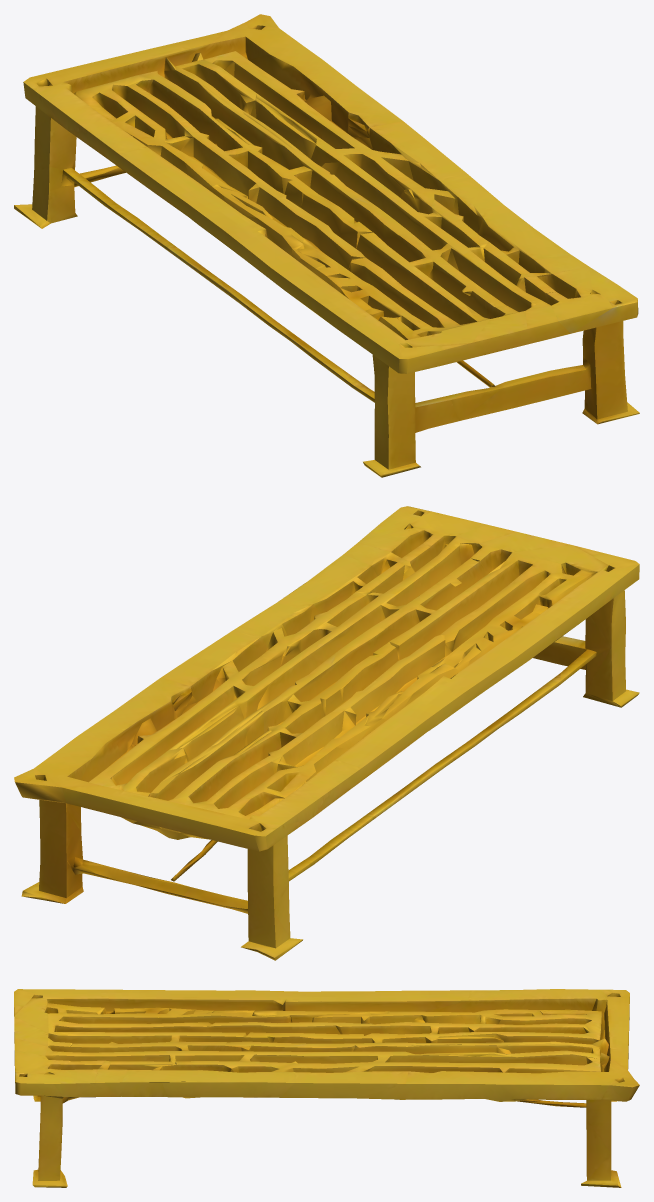
The model's file is m2SteelCatwalk.glb.
3 views of the same model, one above another, from view 1: azimuth 30°, elevation 25°; view 2: azimuth 150°, elevation 25°; view 3: azimuth 270°, elevation 25° (orthographic). The views are drawn at different scales.
Visible parts, largest first — view 1: model; view 2: model; view 3: model.
Part boxes in pixels (left/top/right/bottom): model: left=14, top=14, right=639, bottom=477; model: left=14, top=506, right=639, bottom=960; model: left=14, top=989, right=639, bottom=1187.
Size of the model in its own units: 0.741 by 0.3425 by 1.9.
Materials: 1 (1 with a texture image).
